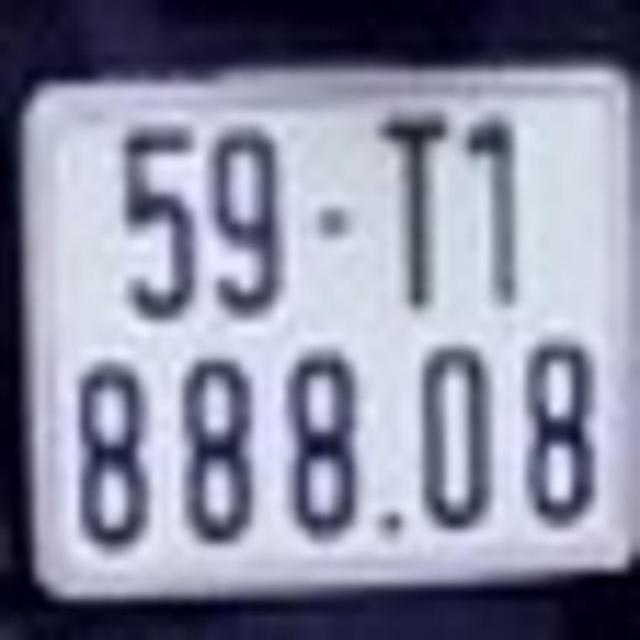0: (420, 341, 493, 530)
1: (467, 115, 522, 308)
5: (116, 119, 200, 322)
8: (180, 354, 254, 545), (77, 357, 149, 550), (288, 347, 358, 539), (526, 339, 596, 526)
9: (209, 122, 282, 317)
T: (378, 113, 448, 311)
